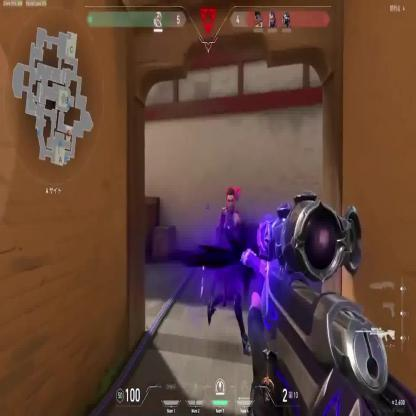enemy: (206, 187, 254, 358)
enemy_head: (225, 187, 239, 216)
